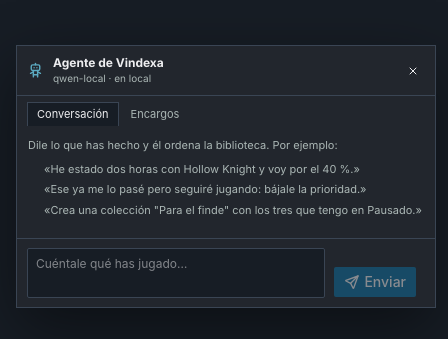
Test: hablar con el agente de Vindexa › enseña la respuesta y lo que tocó por el camino
In the text box named "Mensaje para el agente": (176, 273) left=27, top=248, right=325, bottom=298, type "he jugado dos horas a Hollow Knight"
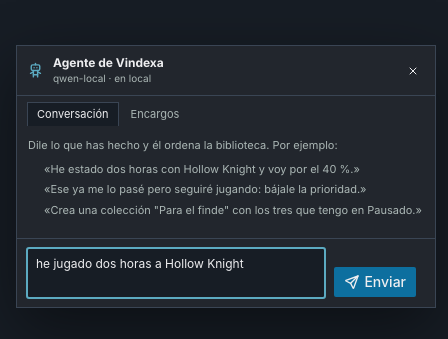
Click the button "Enviar": click(375, 282) left=333, top=266, right=417, bottom=298
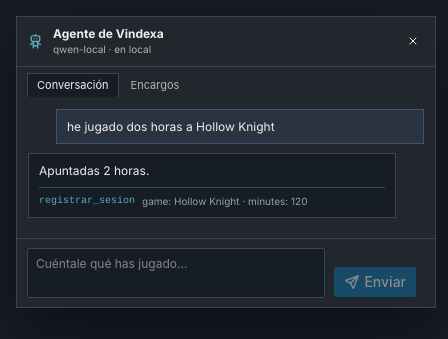
Check: the text "Apuntadas 2 horas." is shown, box left=39, top=162, right=149, bottom=178
Check: the text "registrar_sesion" is shown, box left=39, top=195, right=135, bottom=209
Check: the text "game: Hollow Knight · minutes: 120" is shown, box left=142, top=195, right=308, bottom=209
